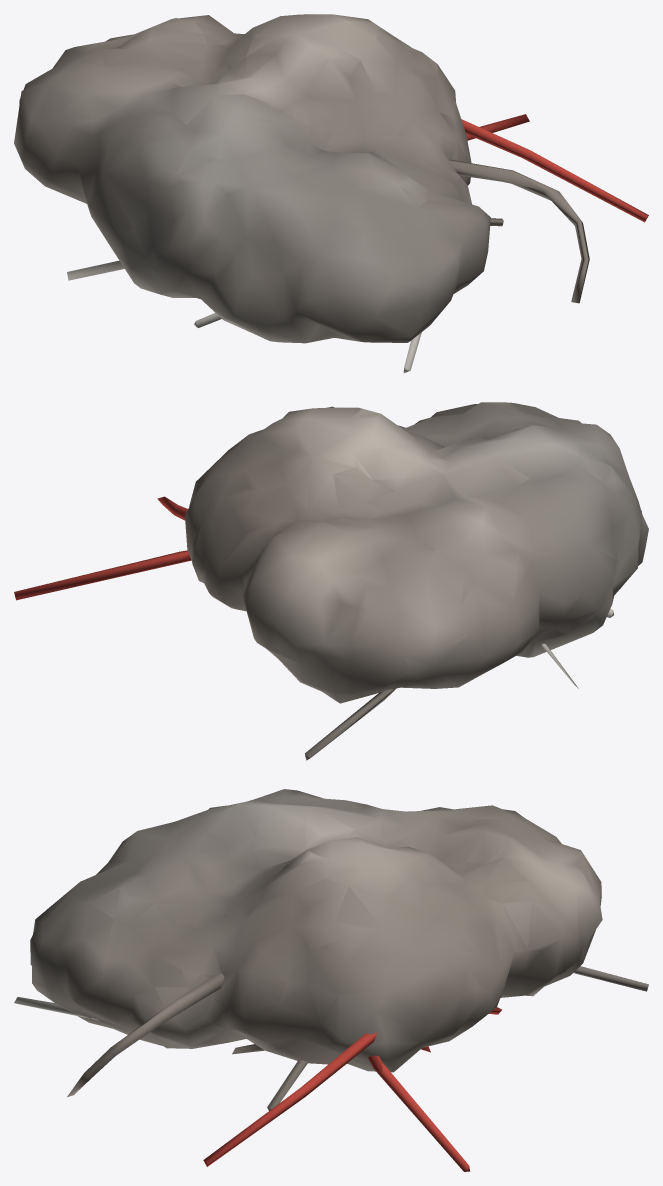
The model's file is den_dust_clump_b_lod1.glb.
3 renders of one model, top to bottom at view 1: azimuth 30°, elevation 25°; view 2: azimuth 150°, elevation 25°; view 3: azimuth 270°, elevation 25°, orthographic. The views are drawn at different scales.
Visible parts, largest first — view 1: den_dust_clump_b.001; view 2: den_dust_clump_b.001; view 3: den_dust_clump_b.001.
Part boxes in pixels (left/top/right/bottom): den_dust_clump_b.001: left=14, top=14, right=648, bottom=373; den_dust_clump_b.001: left=14, top=402, right=648, bottom=760; den_dust_clump_b.001: left=14, top=789, right=648, bottom=1171.
Bounding box in the file's own units: 10.55 × 3.92 × 11.54.
